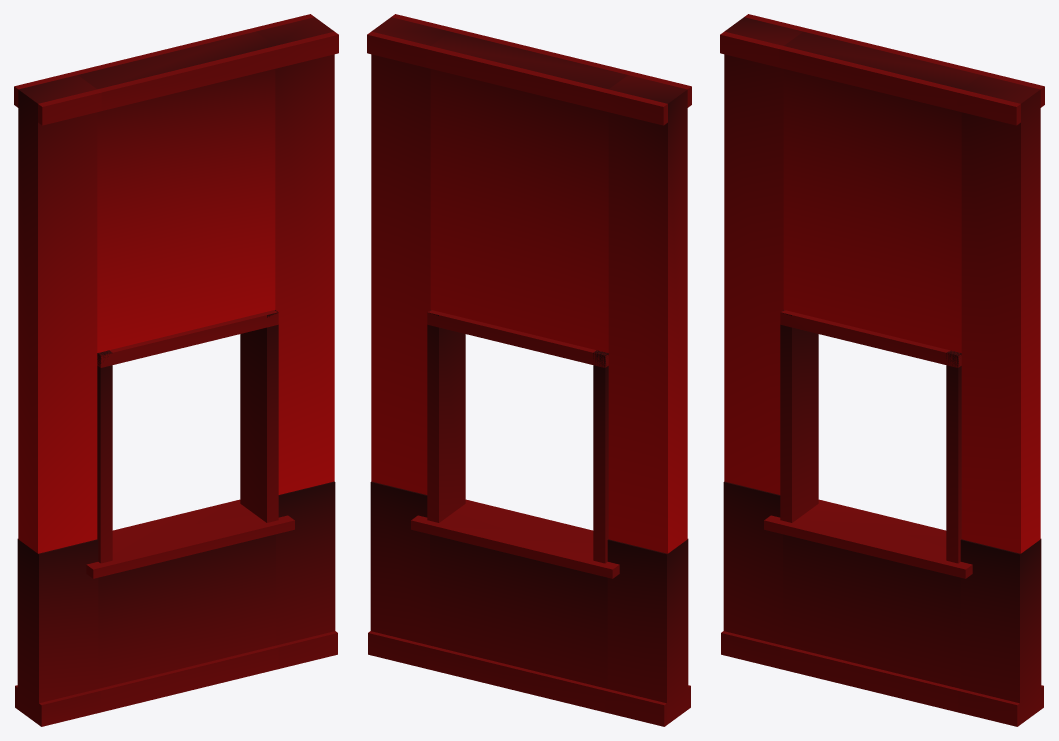
The model's file is wall_window_2m.glb.
3 views of the same model, side by side, from view 1: azimuth 30°, elevation 25°; view 2: azimuth 150°, elevation 25°; view 3: azimuth 330°, elevation 25° (orthographic).
Parts seen in each view (by area): view 1: wall_window_2m; view 2: wall_window_2m; view 3: wall_window_2m.
Boxes of the visible parts, x1,y1,x2,y2 form: wall_window_2m: (14, 14, 338, 726); wall_window_2m: (367, 14, 691, 726); wall_window_2m: (720, 14, 1044, 726).
Size of what is drawn, in the model's own units: 2 by 4 by 0.41.
